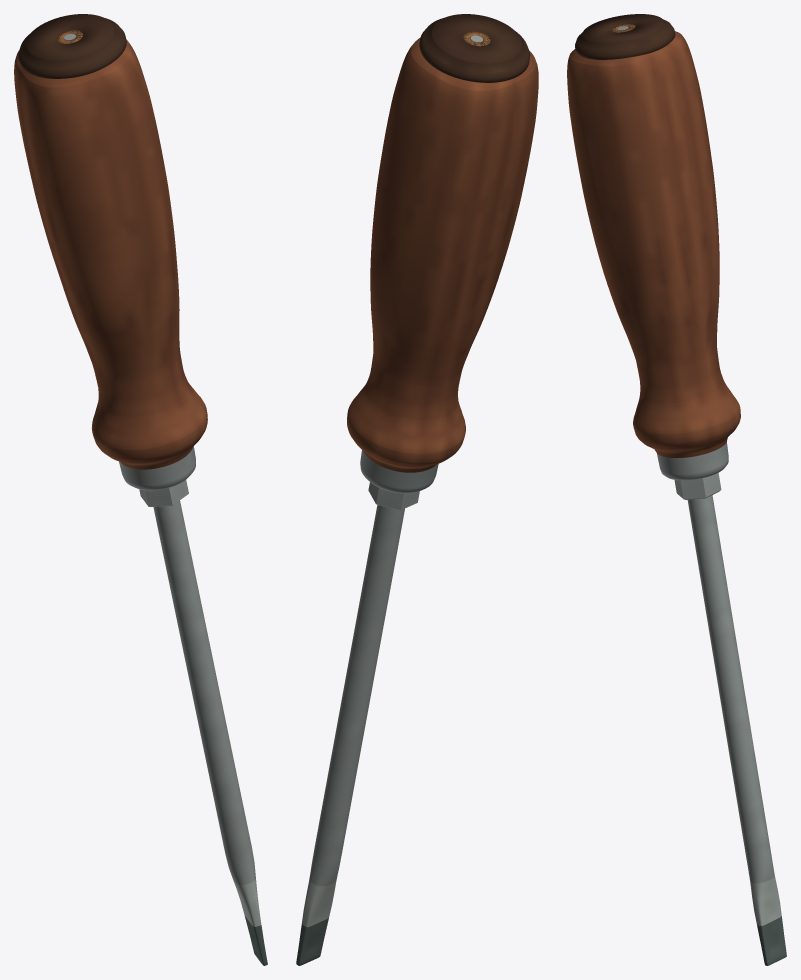
File: Driver_FullTake.fbx
The picture shows the model from 3 angles, left to right: view 1: azimuth 30°, elevation 25°; view 2: azimuth 150°, elevation 25°; view 3: azimuth 330°, elevation 25°; orthographic projection. The views are drawn at different scales.
Parts seen in each view (by area): view 1: TT_Driver_M46_Screwdriver__R03_Handle_Ergonomic_AntiRoll, TT_Driver_M46_Screwdriver__R03_Blade_Round_Shaft_To_Ground_W, TT_Driver_M46_Screwdriver__R03_Leather_End_Cap, TT_Driver_M46_Screwdriver__R03_Ferrule_Rolled_Lip_And_Should, TT_Driver_M46_Screwdriver__R03_Forged_Hex_Bolster; view 2: TT_Driver_M46_Screwdriver__R03_Handle_Ergonomic_AntiRoll, TT_Driver_M46_Screwdriver__R03_Blade_Round_Shaft_To_Ground_W, TT_Driver_M46_Screwdriver__R03_Leather_End_Cap, TT_Driver_M46_Screwdriver__R03_Ferrule_Rolled_Lip_And_Should, TT_Driver_M46_Screwdriver__R03_Forged_Hex_Bolster; view 3: TT_Driver_M46_Screwdriver__R03_Handle_Ergonomic_AntiRoll, TT_Driver_M46_Screwdriver__R03_Blade_Round_Shaft_To_Ground_W, TT_Driver_M46_Screwdriver__R03_Leather_End_Cap, TT_Driver_M46_Screwdriver__R03_Ferrule_Rolled_Lip_And_Should, TT_Driver_M46_Screwdriver__R03_Forged_Hex_Bolster.
Boxes of the visible parts, x1,y1,x2,y2 form: TT_Driver_M46_Screwdriver__R03_Handle_Ergonomic_AntiRoll: (14, 39, 207, 469); TT_Driver_M46_Screwdriver__R03_Blade_Round_Shaft_To_Ground_W: (153, 500, 267, 965); TT_Driver_M46_Screwdriver__R03_Leather_End_Cap: (18, 14, 126, 78); TT_Driver_M46_Screwdriver__R03_Ferrule_Rolled_Lip_And_Should: (119, 446, 195, 490); TT_Driver_M46_Screwdriver__R03_Forged_Hex_Bolster: (139, 479, 188, 506); TT_Driver_M46_Screwdriver__R03_Handle_Ergonomic_AntiRoll: (347, 37, 538, 472); TT_Driver_M46_Screwdriver__R03_Blade_Round_Shaft_To_Ground_W: (296, 505, 404, 965); TT_Driver_M46_Screwdriver__R03_Leather_End_Cap: (419, 14, 530, 82); TT_Driver_M46_Screwdriver__R03_Ferrule_Rolled_Lip_And_Should: (360, 450, 438, 493); TT_Driver_M46_Screwdriver__R03_Forged_Hex_Bolster: (368, 482, 419, 510); TT_Driver_M46_Screwdriver__R03_Handle_Ergonomic_AntiRoll: (567, 31, 740, 457); TT_Driver_M46_Screwdriver__R03_Blade_Round_Shaft_To_Ground_W: (687, 495, 786, 965); TT_Driver_M46_Screwdriver__R03_Leather_End_Cap: (575, 14, 675, 59); TT_Driver_M46_Screwdriver__R03_Ferrule_Rolled_Lip_And_Should: (657, 442, 728, 480); TT_Driver_M46_Screwdriver__R03_Forged_Hex_Bolster: (674, 473, 721, 499).
Bounding box in the file's own units: 29.58 × 119 × 15.72.
Materials: 6 (6 with a texture image).
